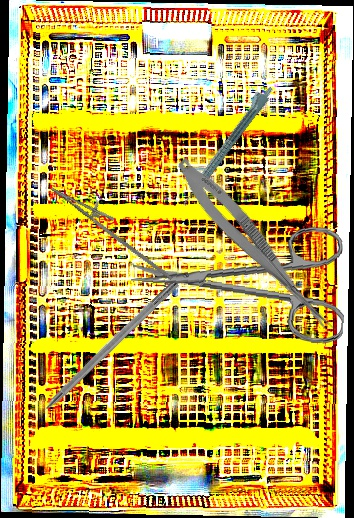Handpiece: (174, 81, 276, 208)
Hook Surgical: (24, 277, 180, 429)
Iris Scissors: (127, 210, 352, 346)
Micro Scissor: (168, 152, 347, 341)
Needle Holder: (41, 177, 188, 281)
